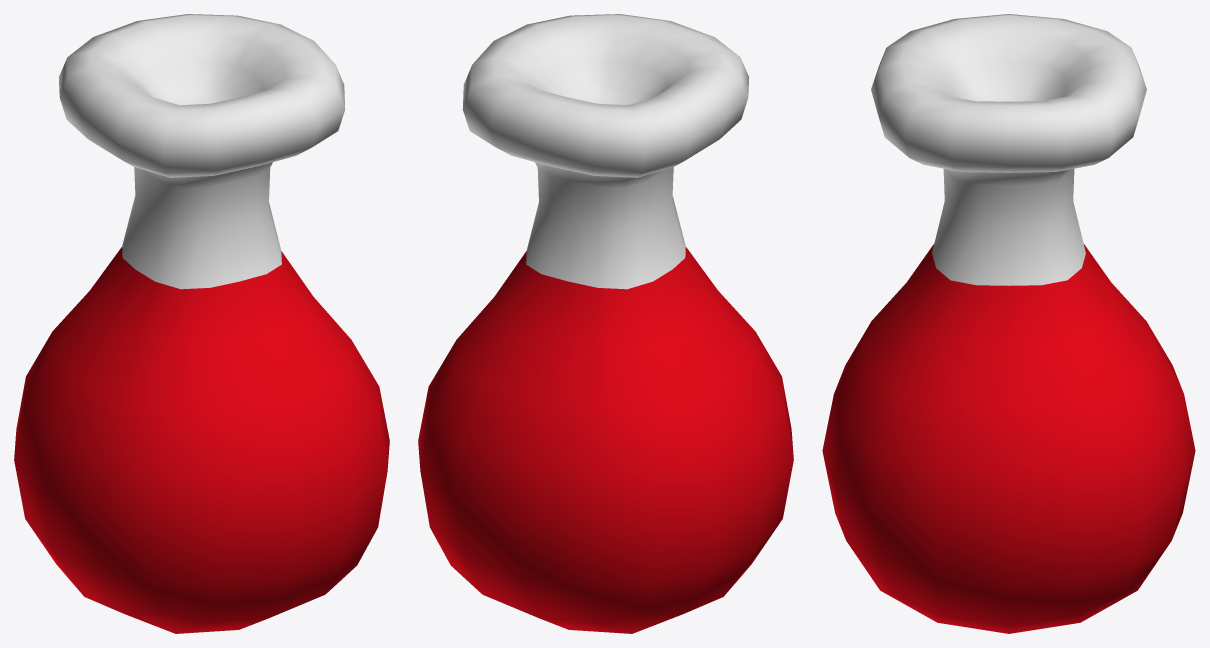
The model's file is Potion.fbx.
3 views of the same model, side by side, from view 1: azimuth 30°, elevation 25°; view 2: azimuth 150°, elevation 25°; view 3: azimuth 270°, elevation 25° (orthographic).
Parts seen in each view (by area): view 1: Cube; view 2: Cube; view 3: Cube.
Boxes of the visible parts, x1,y1,x2,y2 form: Cube: [14, 14, 389, 633]; Cube: [418, 14, 793, 633]; Cube: [822, 14, 1195, 633].
Size of the model in its own units: 0.3498 by 0.5721 by 0.3498.
